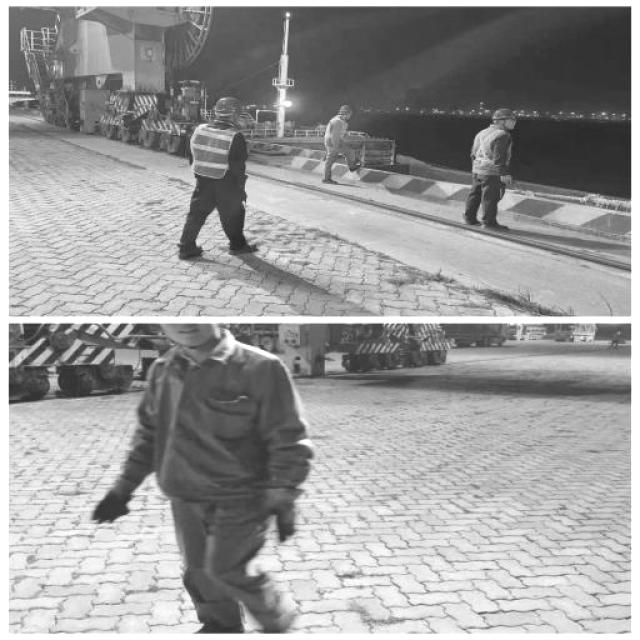hand_glove: (257, 484, 301, 540), (90, 478, 139, 526)
head_helmet: (213, 97, 245, 117), (490, 106, 520, 126), (336, 102, 353, 116)
person: (173, 94, 264, 270), (457, 104, 525, 233), (316, 101, 363, 188), (482, 217, 512, 233), (459, 214, 486, 230), (320, 173, 340, 188), (347, 160, 363, 174)
shoes: (222, 236, 260, 260), (174, 238, 206, 262)
vest: (192, 121, 247, 184), (471, 124, 511, 176), (323, 116, 349, 143)
